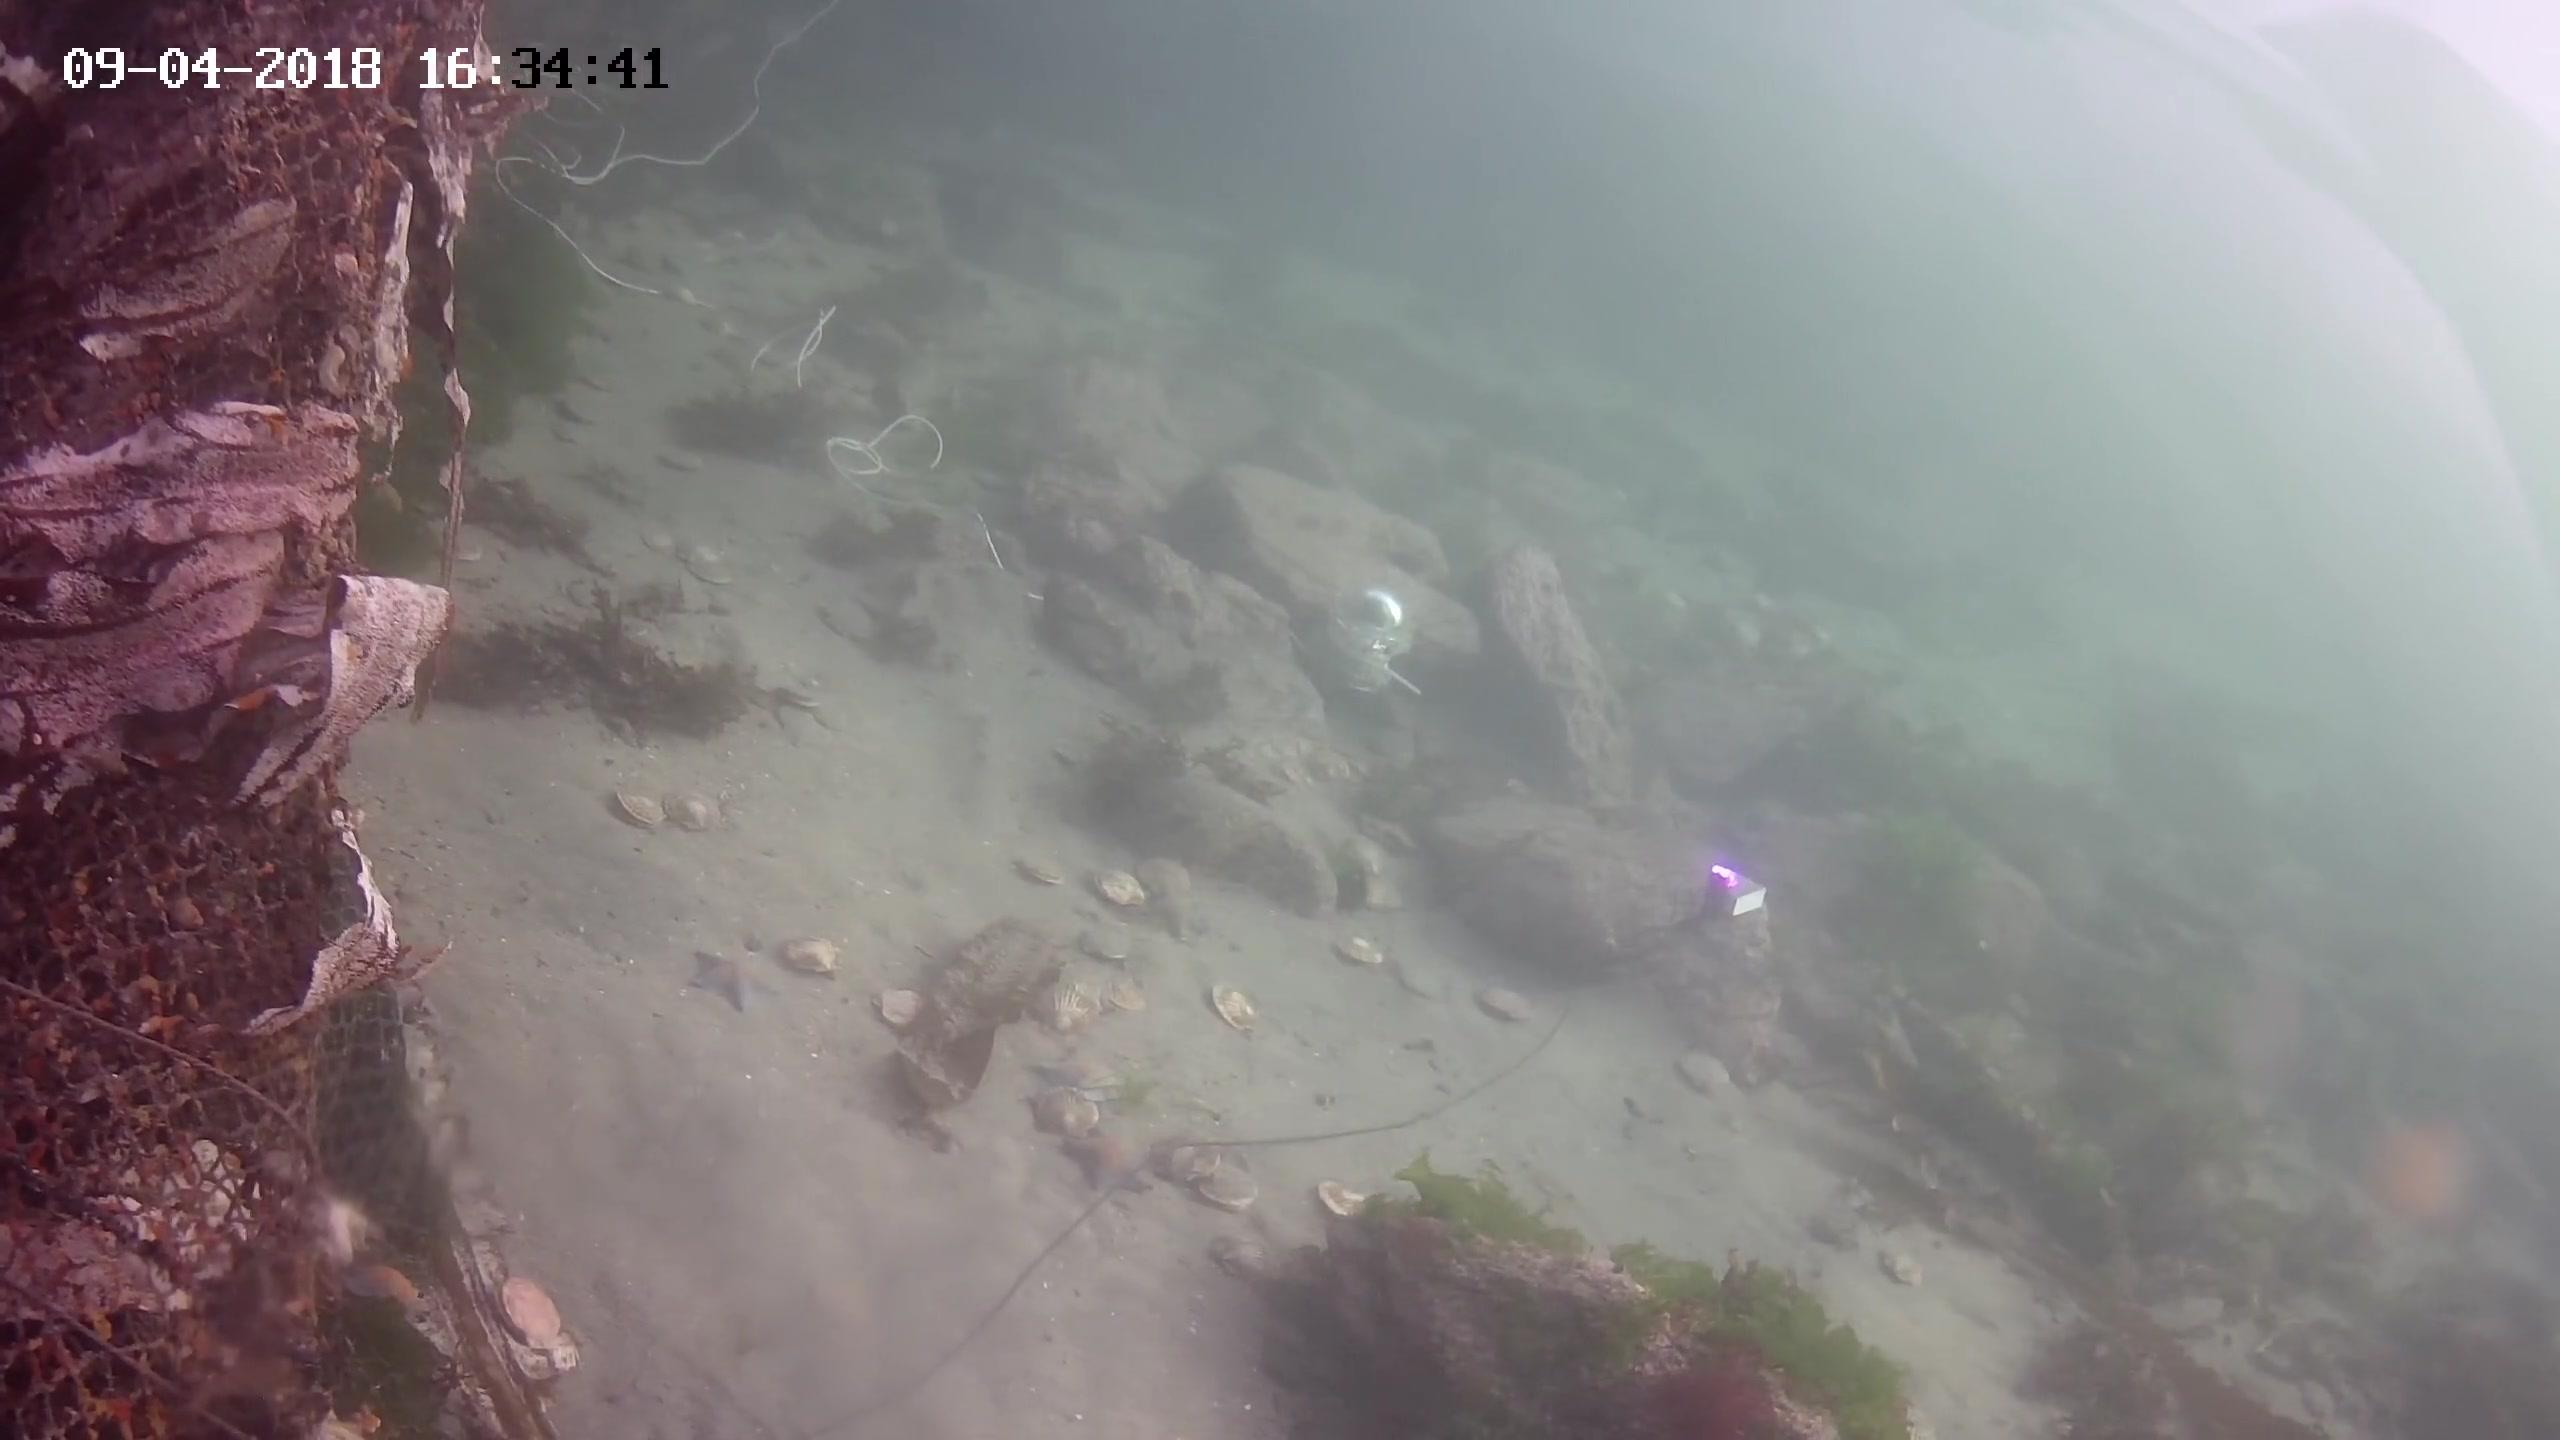scallop: (485, 1262, 566, 1363), (1018, 1087, 1102, 1146), (1023, 979, 1101, 1043), (1199, 983, 1275, 1044), (869, 985, 934, 1043), (1468, 976, 1537, 1029), (1308, 1182, 1384, 1229), (1155, 1138, 1217, 1194), (1681, 1044, 1739, 1102), (1197, 1162, 1264, 1211), (677, 536, 737, 591), (814, 601, 883, 649), (1211, 1229, 1282, 1273), (1329, 925, 1394, 972), (1000, 846, 1065, 893), (663, 786, 717, 839), (612, 786, 677, 828), (1088, 869, 1148, 913), (781, 937, 835, 985), (1809, 1206, 1860, 1254), (1069, 920, 1129, 955), (1111, 967, 1148, 1011)
starfish: (2351, 1108, 2504, 1248), (1064, 1120, 1157, 1197), (341, 1255, 425, 1333), (679, 951, 777, 1016), (1145, 879, 1217, 948), (1034, 1041, 1102, 1095)
